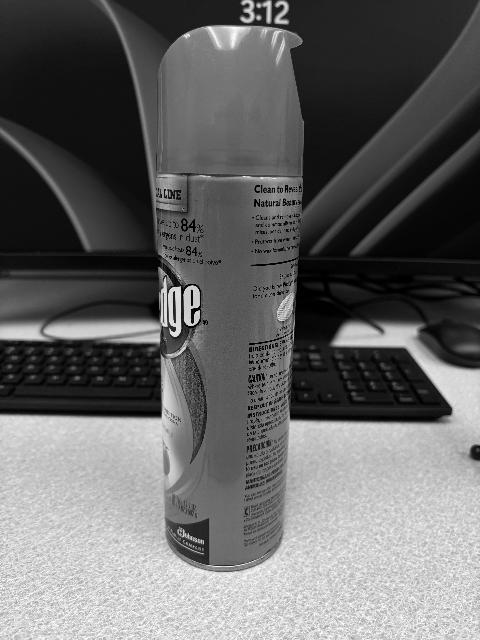Pledge: (155, 25, 304, 574)
